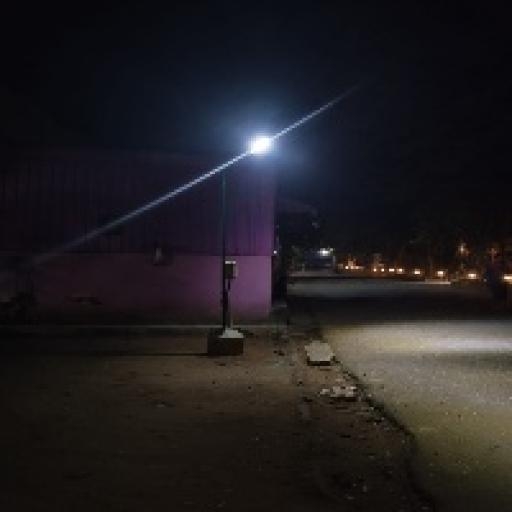Working: (237, 130, 288, 160)
